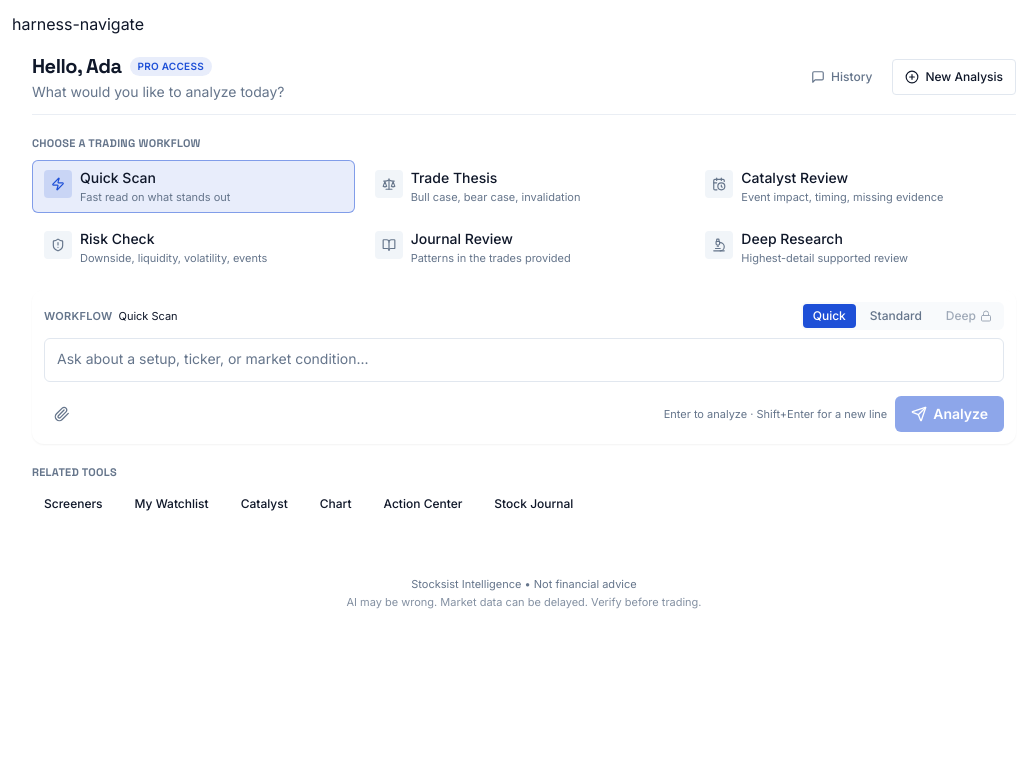
it: AI Analyst — request lifecycle › a continuation error does not leave the partial answer in place
The width and height of the screenshot is (1036, 780).
Type "Quote AAPL" into the text box with placeholder "Ask about a setup, ticker, or market condition...".
click(524, 360); type("Quote AAPL")  # box [44,338,1004,382]
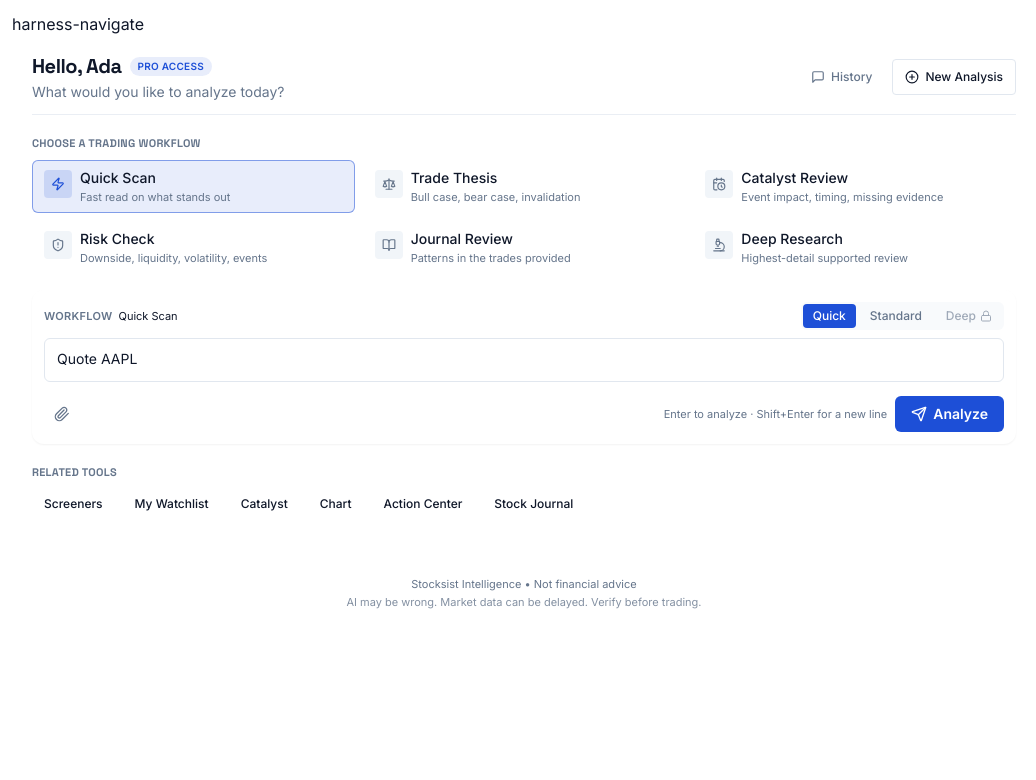
Press Enter in the text box with placeholder "Ask about a setup, ticker, or market condition...", box [44,338,1004,382]
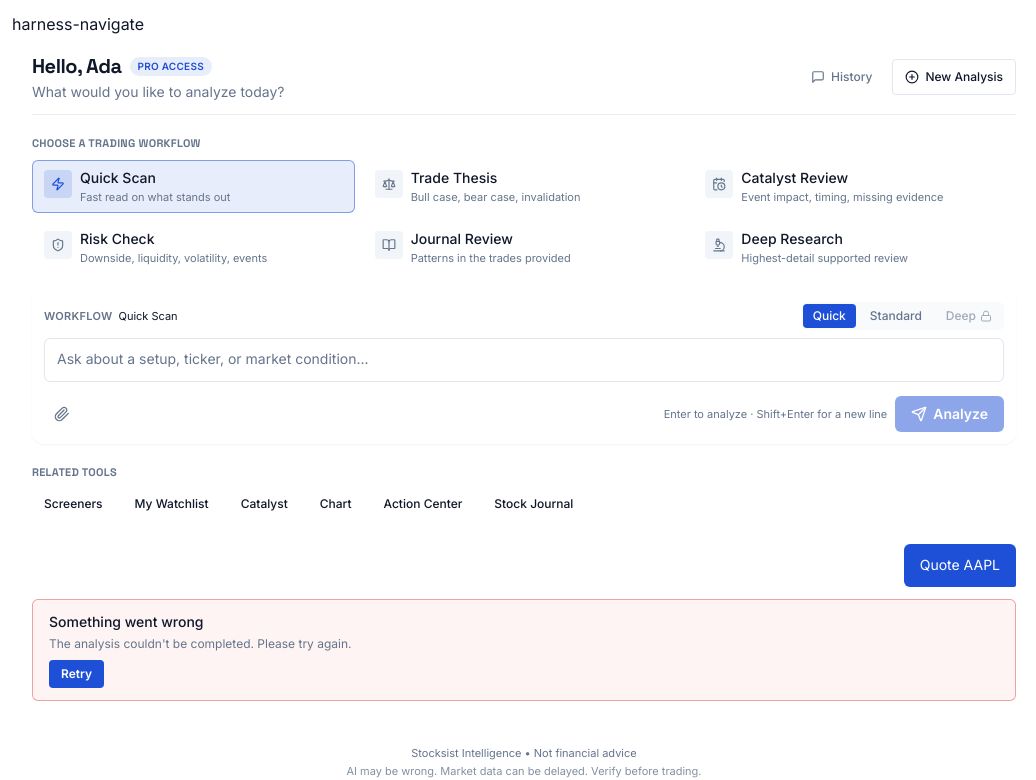
Now the text "The analysis couldn't be completed. Please try again." is shown, box [49,636,352,651]
